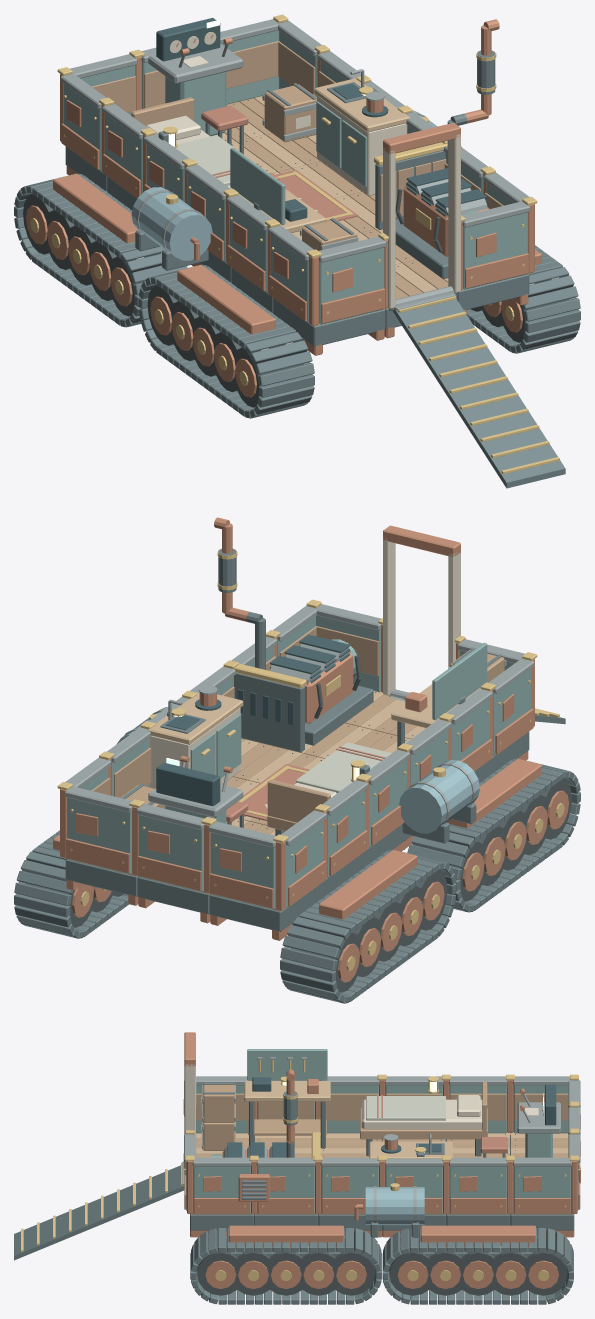
The model's file is starter_crawler_cutaway.glb.
3 renders of one model, top to bottom at view 1: azimuth 30°, elevation 25°; view 2: azimuth 150°, elevation 25°; view 3: azimuth 270°, elevation 25°, orthographic. The views are drawn at different scales.
Parts seen in each view (by area): view 1: track_bogie_3m__018, track_bogie_3m__019, ramp__122, kitchen__114, track_bogie_3m__020, helm__111, engine__116, doorway_1m__026, wall_low_1m__022, wall_low_1m__029, tank__124, wall_low_1m__031 (+31 smaller); view 2: track_bogie_3m__019, track_bogie_3m__018, engine__116, track_bogie_3m__021, kitchen__114, interior_partition_1m__117, wall_low_1m__024, wall_low_1m__027, wall_low_1m__031, tank__124, doorway_1m__026, bed__113 (+26 smaller); view 3: track_bogie_3m__020, track_bogie_3m__021, bed__113, workbench__115, ramp__122, wall_low_1m__055, wall_low_1m__053, wall_low_1m__045, wall_low_1m__047, wall_low_1m__049, tank__123, helm__111 (+34 smaller).
Boxes of the visible parts, <box> form: track_bogie_3m__018: <box>138,264,314,418</box>; track_bogie_3m__019: <box>14,173,187,327</box>; ramp__122: <box>388,286,565,488</box>; kitchen__114: <box>314,69,409,195</box>; track_bogie_3m__020: <box>466,245,580,353</box>; helm__111: <box>148,17,243,136</box>; engine__116: <box>395,113,489,278</box>; doorway_1m__026: <box>383,122,460,310</box>; wall_low_1m__022: <box>319,236,386,324</box>; wall_low_1m__029: <box>462,201,530,289</box>; tank__124: <box>131,187,212,270</box>; wall_low_1m__031: <box>220,19,279,104</box>; track_bogie_3m__019: <box>280,849,456,1003</box>; track_bogie_3m__018: <box>407,758,580,912</box>; engine__116: <box>246,612,373,745</box>; track_bogie_3m__021: <box>14,830,129,938</box>; kitchen__114: <box>147,685,243,788</box>; interior_partition_1m__117: <box>234,663,306,752</box>; wall_low_1m__024: <box>208,821,275,909</box>; wall_low_1m__027: <box>136,804,204,891</box>; wall_low_1m__031: <box>64,786,132,874</box>; tank__124: <box>399,760,479,843</box>; doorway_1m__026: <box>383,525,460,701</box>; bed__113: <box>267,742,391,835</box>; track_bogie_3m__020: <box>190,1225,381,1304</box>; track_bogie_3m__021: <box>382,1225,573,1304</box>; bed__113: <box>360,1081,487,1156</box>; workbench__115: <box>244,1049,330,1148</box>; ramp__122: <box>14,1162,184,1260</box>; wall_low_1m__055: <box>513,1157,571,1214</box>; wall_low_1m__053: <box>449,1157,507,1214</box>; wall_low_1m__045: <box>192,1157,251,1214</box>; wall_low_1m__047: <box>256,1157,315,1214</box>; wall_low_1m__049: <box>320,1157,379,1214</box>; tank__123: <box>354,1183,424,1237</box>; helm__111: <box>517,1084,560,1157</box>.
Bounding box in the file's own units: 4.44 × 3.94 × 8.85.
